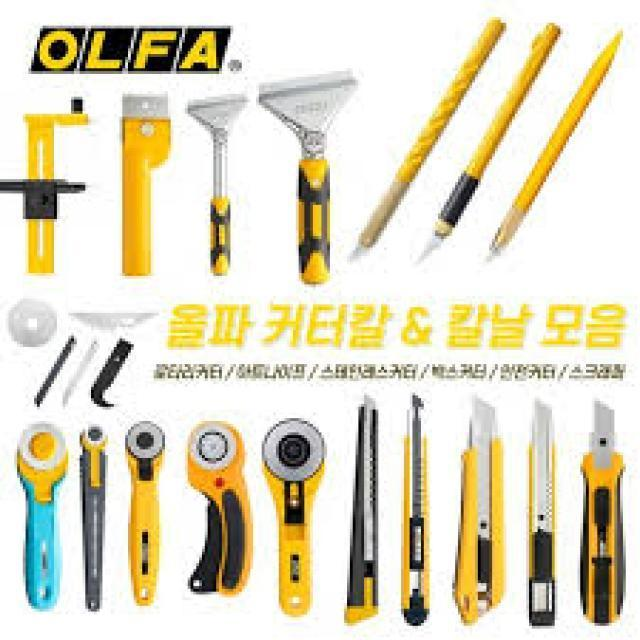cutter: (452, 391, 512, 632), (332, 383, 386, 631), (577, 394, 631, 632), (518, 389, 568, 634), (397, 392, 435, 636)
